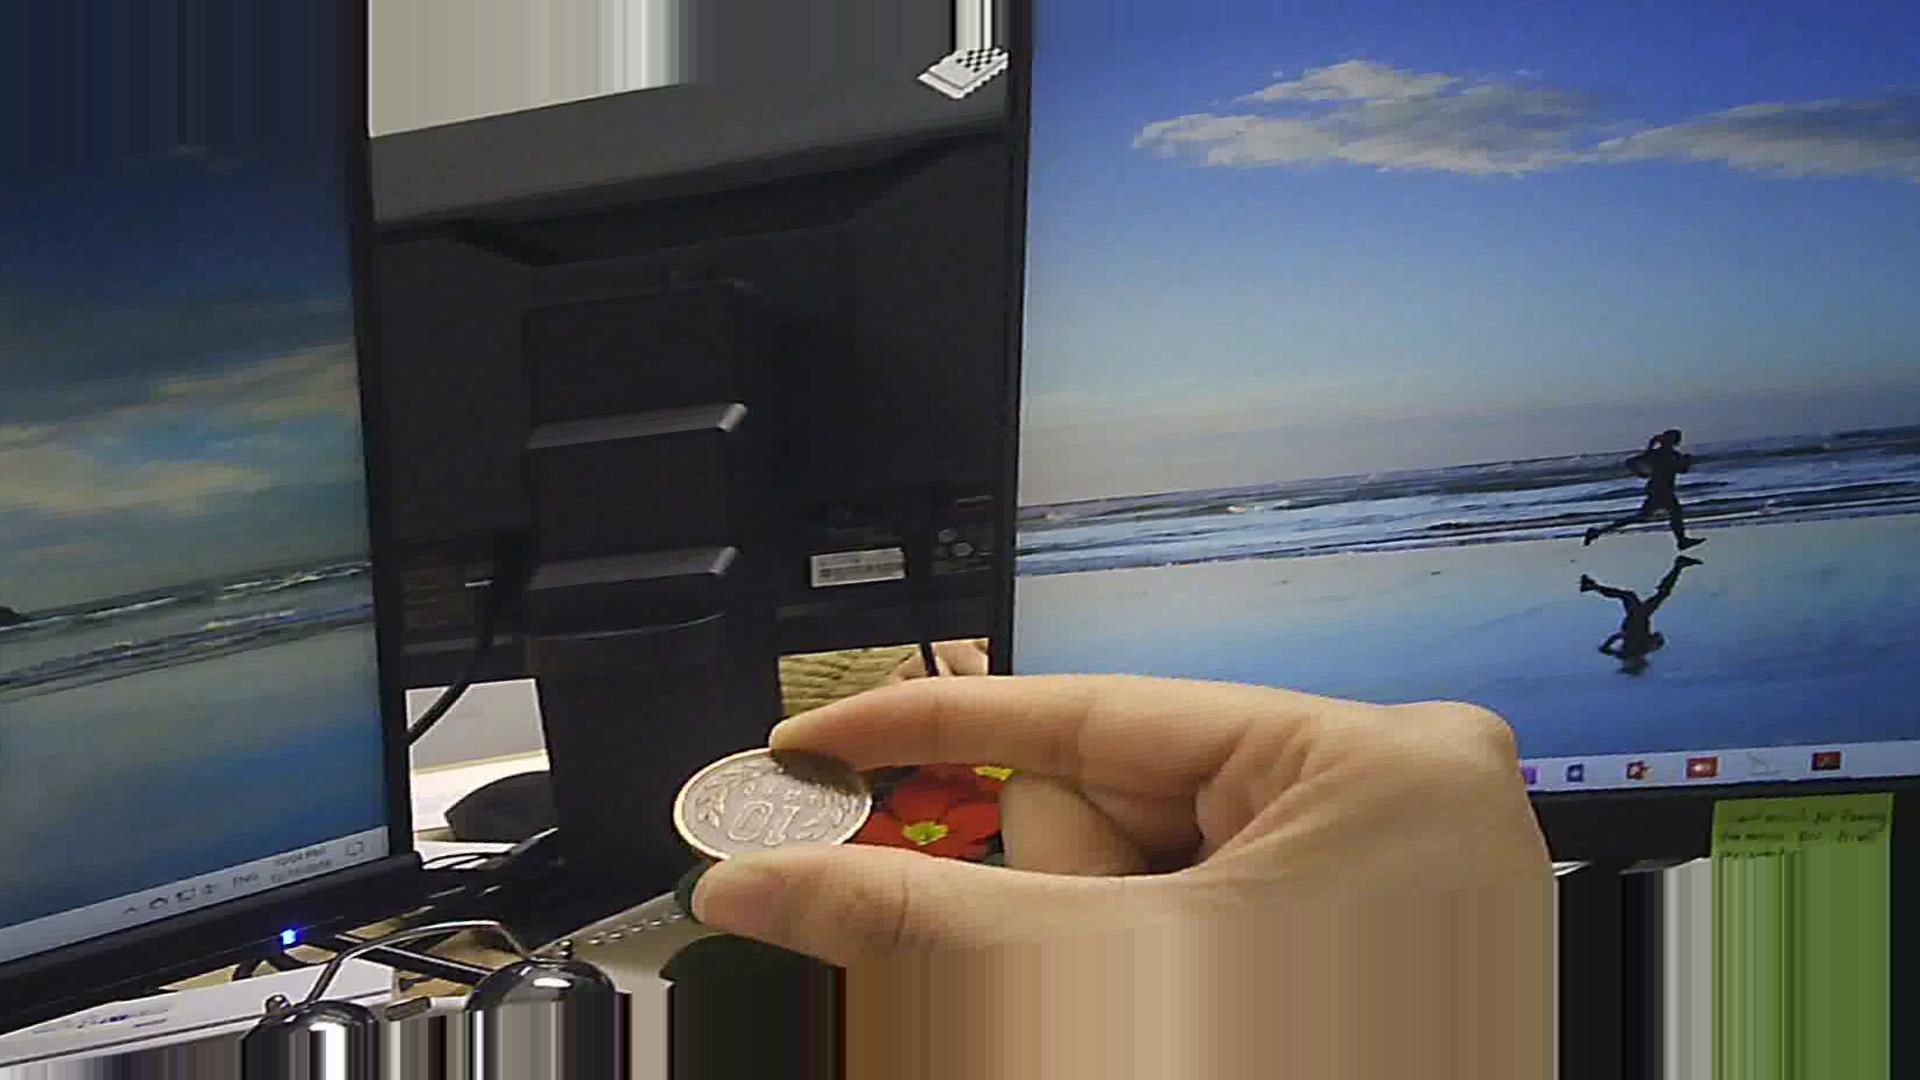10 Yen: (661, 731, 881, 873)
